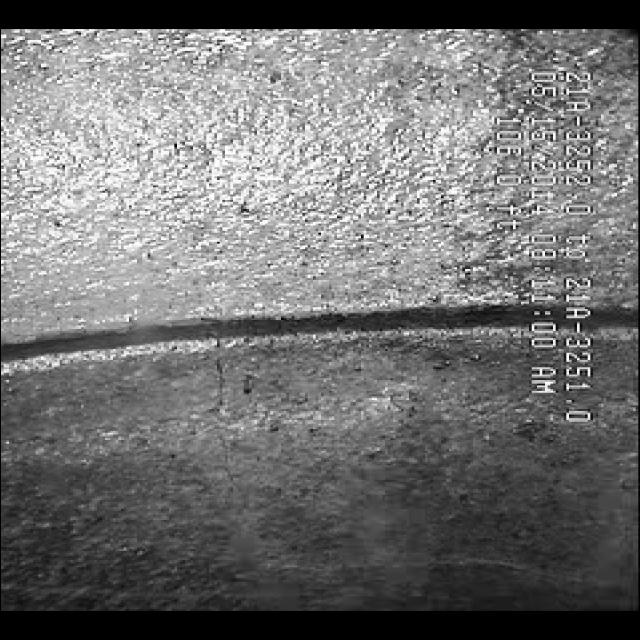Crack: (180, 343, 264, 547)
